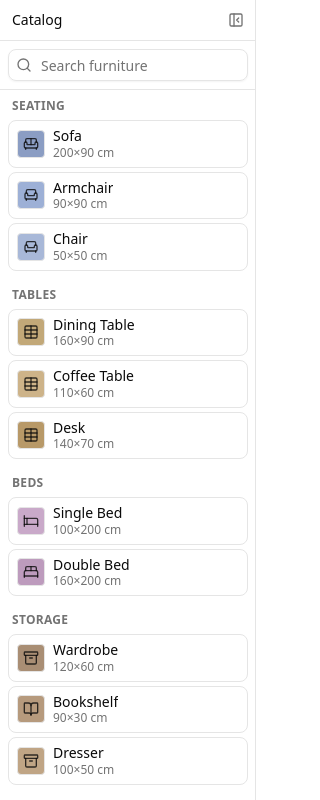
CatalogSidebar › shows an empty state when nothing matches
Type "zzzznomatch" into the search field labelled "Search furniture" at coordinates (128, 65), box [8,49,248,81]
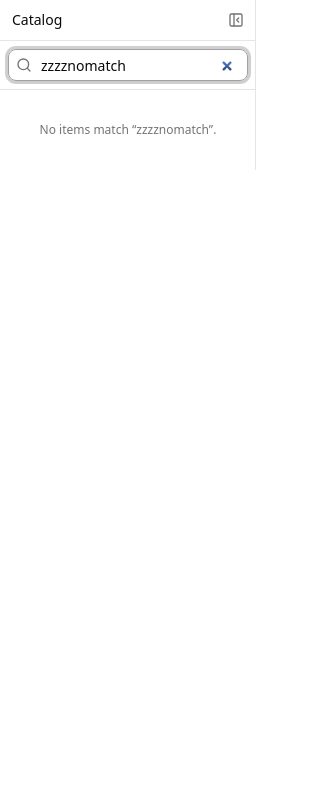
expect the button "Sofa" is gone: met
expect the text "No items match “zzzznomatch”." is shown: met, box [40,121,216,138]
